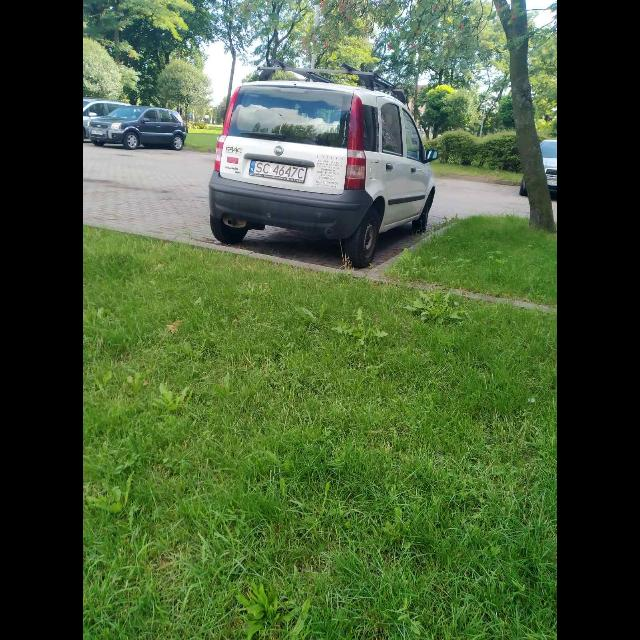pl_license_plate: (249, 160, 305, 180)
